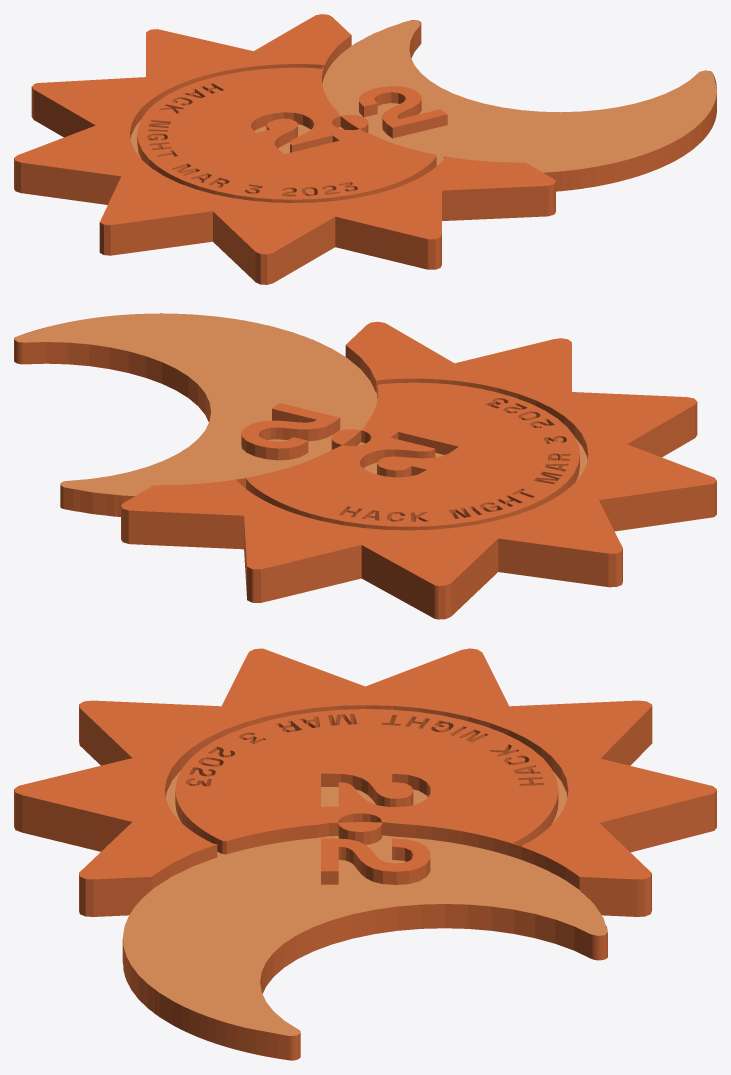
The model's file is badge2.2-flat.glb.
The picture shows the model from 3 angles, top to bottom: view 1: azimuth 30°, elevation 25°; view 2: azimuth 150°, elevation 25°; view 3: azimuth 270°, elevation 25°; orthographic projection. The views are drawn at different scales.
Parts seen in each view (by area): view 1: Mesh Uncut; view 2: Mesh Uncut; view 3: Mesh Uncut.
Part boxes in pixels (box(x1,y1,x2,y2)): Mesh Uncut: box(14, 14, 716, 284); Mesh Uncut: box(14, 313, 716, 619); Mesh Uncut: box(14, 648, 716, 1060).
Bounding box in the file's own units: 6.63 × 0.3098 × 5.26.
